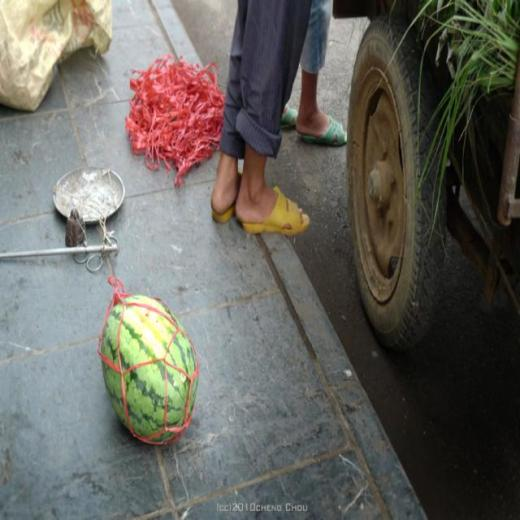Cherry: (97, 293, 199, 447)
